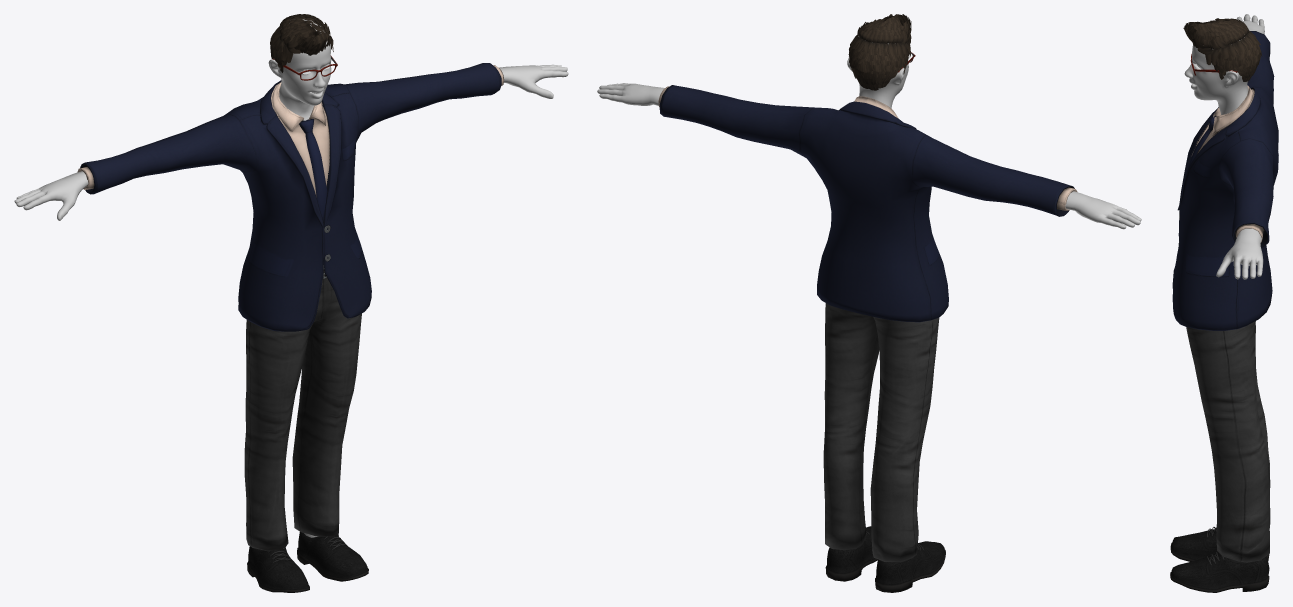
Rendered from jacobBrigby.obj.
The picture shows the model from 3 angles, left to right: view 1: azimuth 30°, elevation 25°; view 2: azimuth 150°, elevation 25°; view 3: azimuth 270°, elevation 25°; orthographic projection.
Parts seen in each view (by area): view 1: Tops, Bottoms, Body, Shoes, Hair; view 2: Tops, Bottoms, Hair, Shoes, Body; view 3: Tops, Bottoms, Shoes, Body, Hair.
Part boxes in pixels (x1,y1,x2,y2): Tops: [77, 63, 504, 331]; Bottoms: [244, 265, 361, 551]; Body: [14, 19, 568, 537]; Shoes: [247, 532, 368, 592]; Hair: [270, 14, 333, 72]; Tops: [658, 85, 1077, 322]; Bottoms: [823, 303, 939, 562]; Hair: [848, 14, 911, 90]; Shoes: [825, 526, 945, 592]; Body: [597, 36, 1141, 229]; Tops: [1172, 31, 1278, 330]; Bottoms: [1186, 321, 1270, 562]; Shoes: [1170, 527, 1269, 592]; Body: [1184, 14, 1264, 279]; Hair: [1183, 18, 1262, 82].
Bounding box in the file's own units: 187 × 181 × 32.28.
